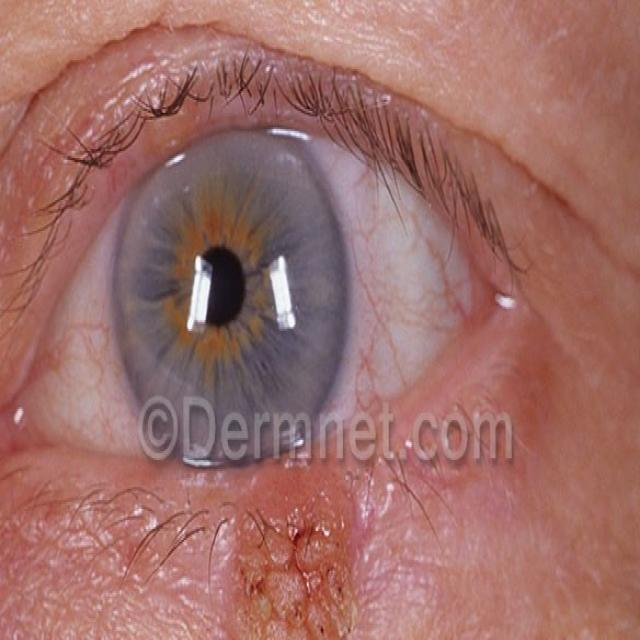Warts: (213, 469, 391, 640)
